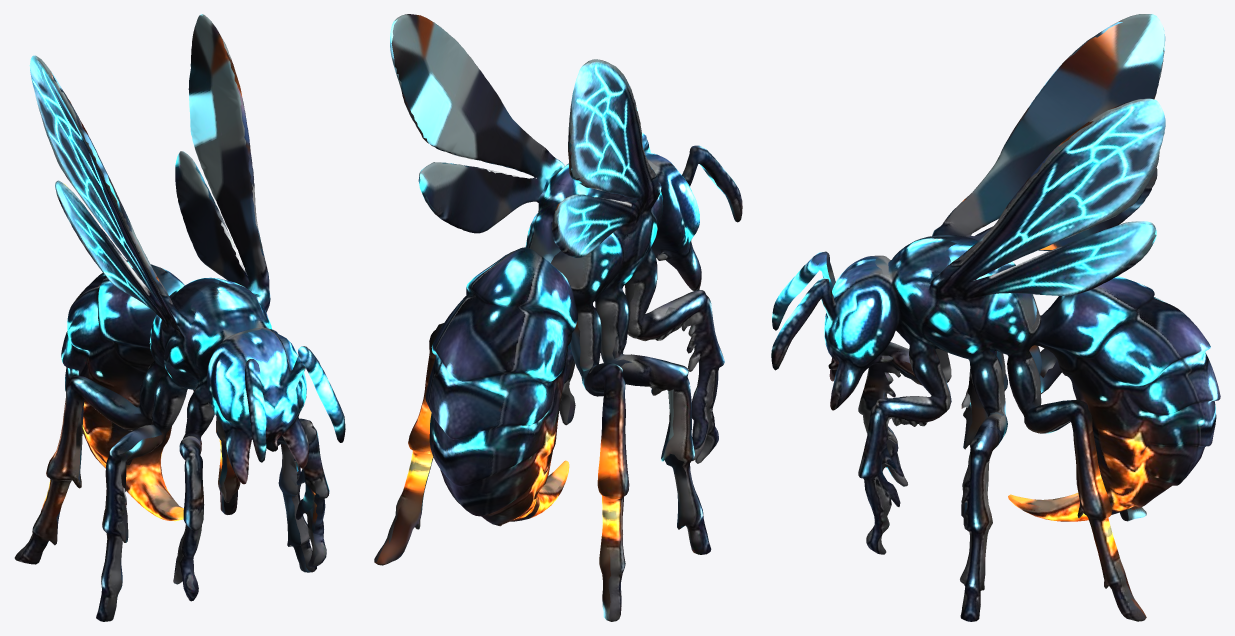
Rendered from plasma_wasp.glb.
3 views of the same model, side by side, from view 1: azimuth 30°, elevation 25°; view 2: azimuth 150°, elevation 25°; view 3: azimuth 270°, elevation 25° (orthographic). The views are drawn at different scales.
Visible parts, largest first — view 1: geometry_0; view 2: geometry_0; view 3: geometry_0.
Boxes of the visible parts, x1,y1,x2,y2 form: geometry_0: (14, 14, 345, 621); geometry_0: (374, 14, 742, 621); geometry_0: (771, 14, 1220, 621).
Size of the model in its own units: 0.9216 by 2 by 1.59.
1 material, 1 textured.
